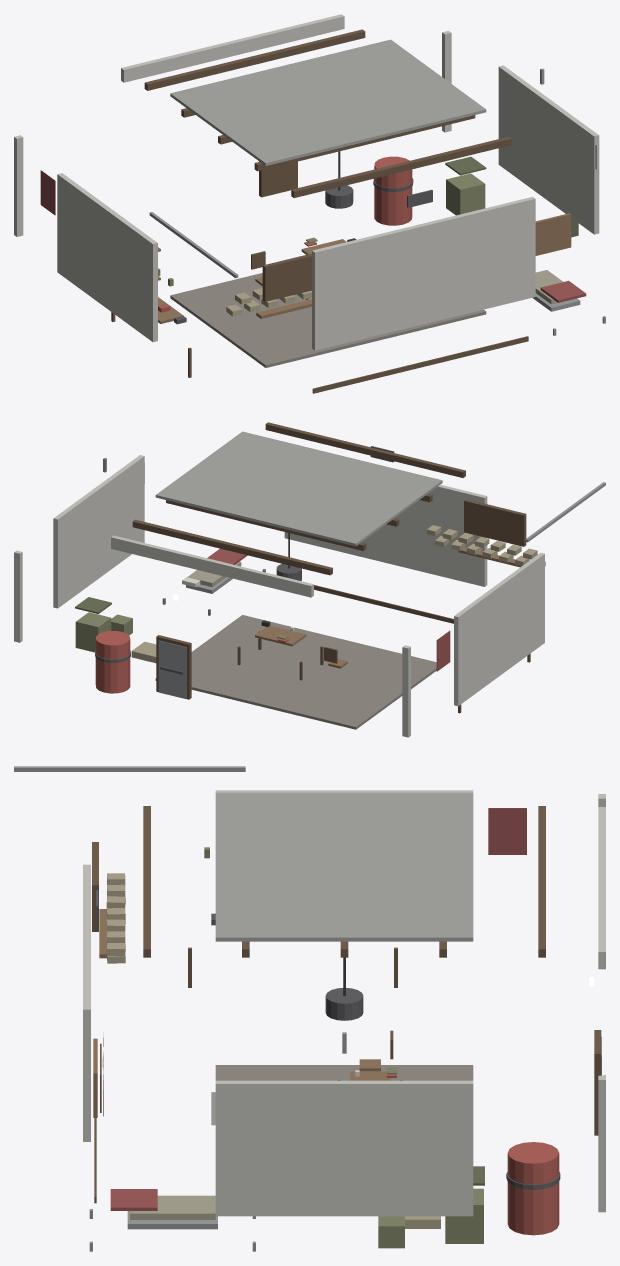
File: survival_cabin.glb
3 renders of one model, top to bottom at view 1: azimuth 30°, elevation 25°; view 2: azimuth 150°, elevation 25°; view 3: azimuth 270°, elevation 25°, orthographic. The views are drawn at different scales.
Parts seen in each view (by area): view 1: SurvivalCabin; view 2: SurvivalCabin; view 3: SurvivalCabin.
Part boxes in pixels (x1,y1,x2,y2): SurvivalCabin: (14,14,605,393); SurvivalCabin: (14,422,605,737); SurvivalCabin: (14,766,605,1251).
Bounding box in the file's own units: 8.09 × 3.55 × 6.89.
